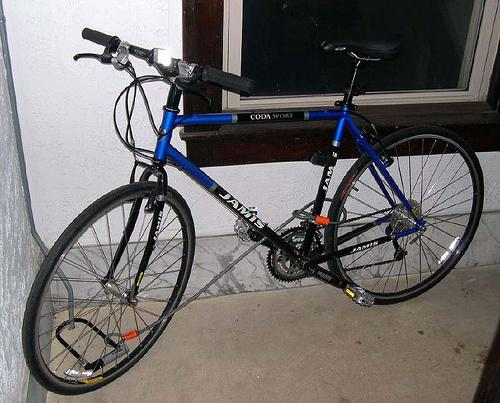car: (22, 27, 484, 396)
